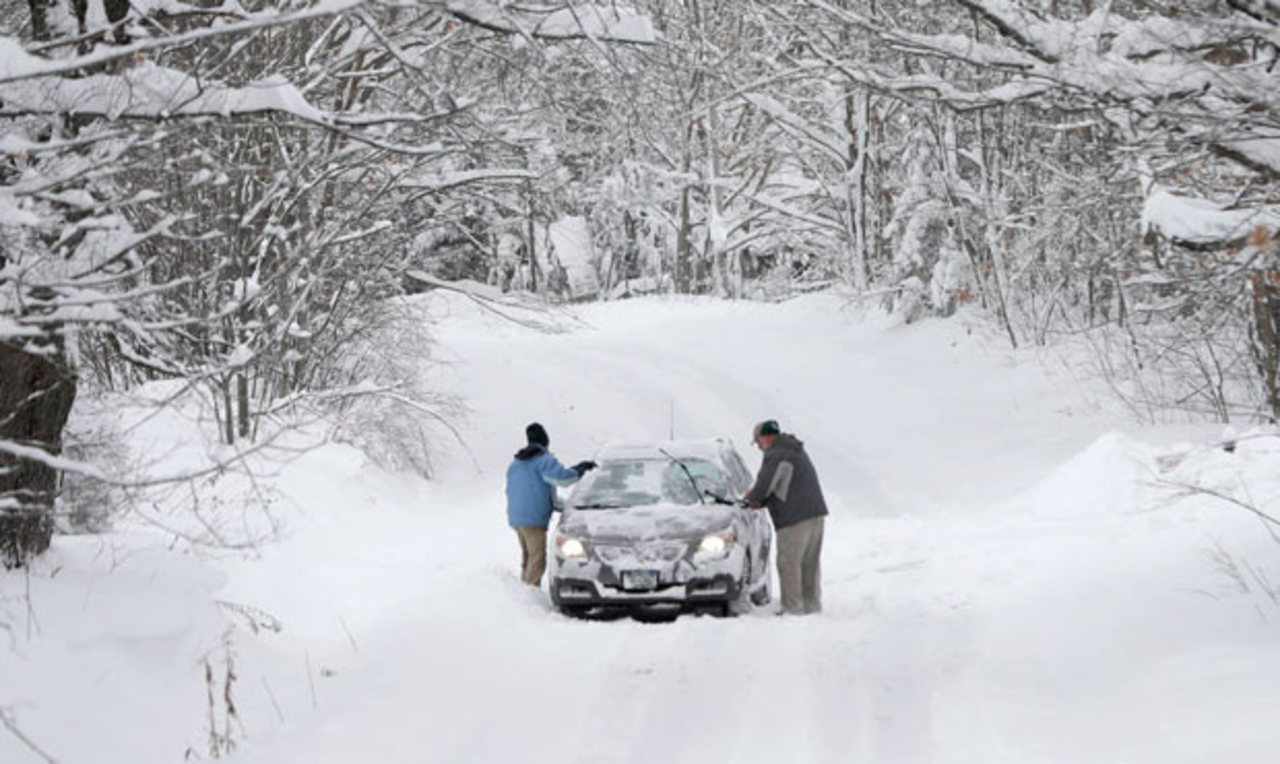car: (545, 443, 764, 625)
person: (729, 420, 824, 613), (507, 422, 591, 579)
